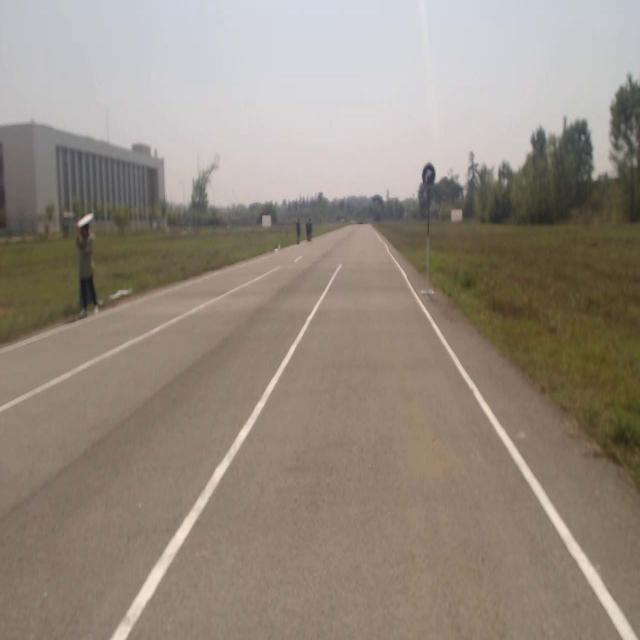sag: (424, 162, 435, 185)
